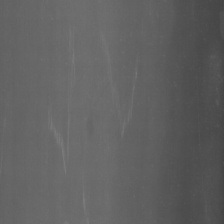silk_spot: (100, 53, 140, 141), (41, 100, 71, 181), (78, 172, 91, 220)
